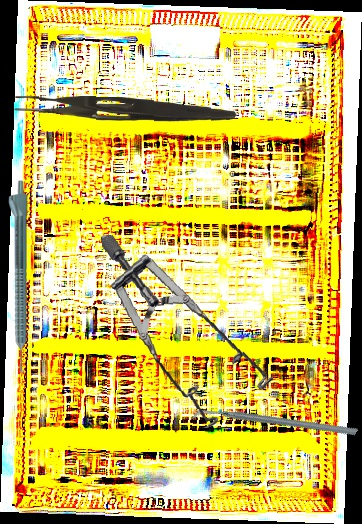Chopper: (190, 351, 359, 497)
Dressing Forceps: (13, 95, 237, 123)
Handpiece: (6, 180, 28, 373)
Speculum: (100, 219, 278, 437)
